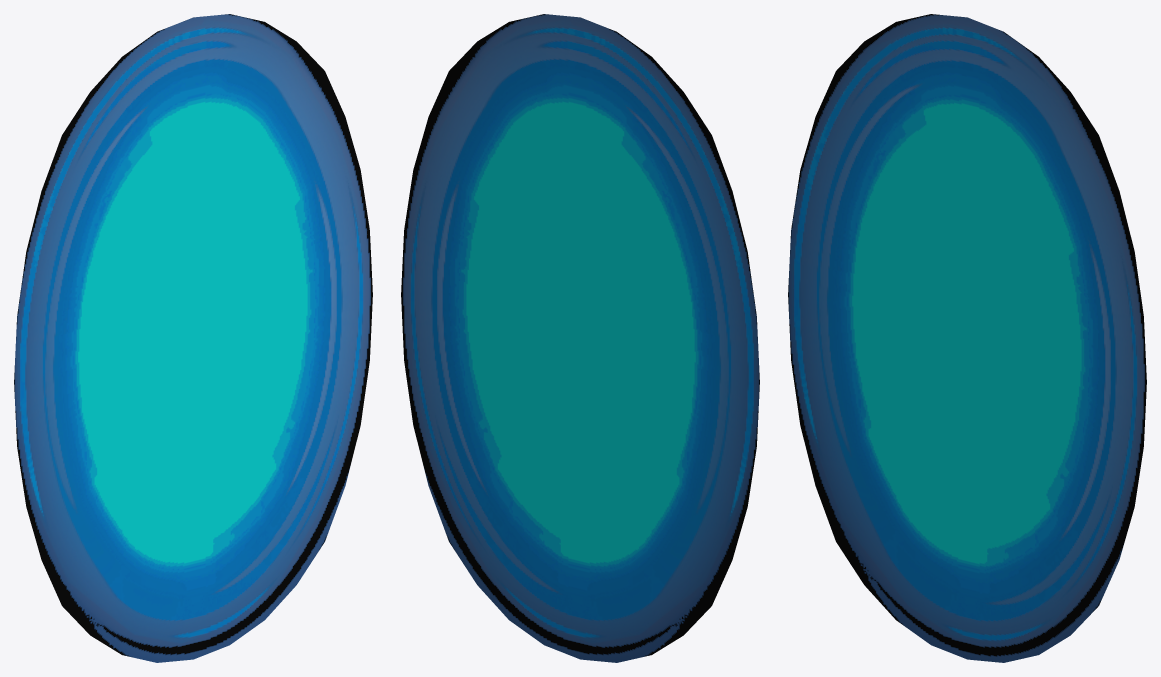
Rendered from portal.glb.
3 renders of one model, left to right at view 1: azimuth 30°, elevation 25°; view 2: azimuth 150°, elevation 25°; view 3: azimuth 330°, elevation 25°, orthographic.
Parts seen in each view (by area): view 1: portal; view 2: portal; view 3: portal.
Boxes of the visible parts, left/top/right/bottom form: portal: left=14, top=14, right=372, bottom=662; portal: left=401, top=14, right=759, bottom=662; portal: left=788, top=14, right=1146, bottom=662.
Size of the model in its own units: 1.16 by 1.98 by 8.82e-08.
Materials: 1 (1 with a texture image).
